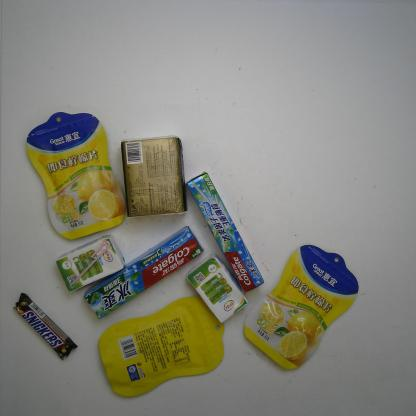Chocolate: (11, 292, 78, 361)
Dried Fruit: (244, 244, 360, 370), (26, 112, 126, 240), (98, 296, 224, 397)
Milk: (186, 252, 248, 324), (55, 234, 125, 292)
Personal Hygiene: (83, 226, 204, 320), (185, 171, 265, 294)
Tissue: (121, 135, 188, 218)
